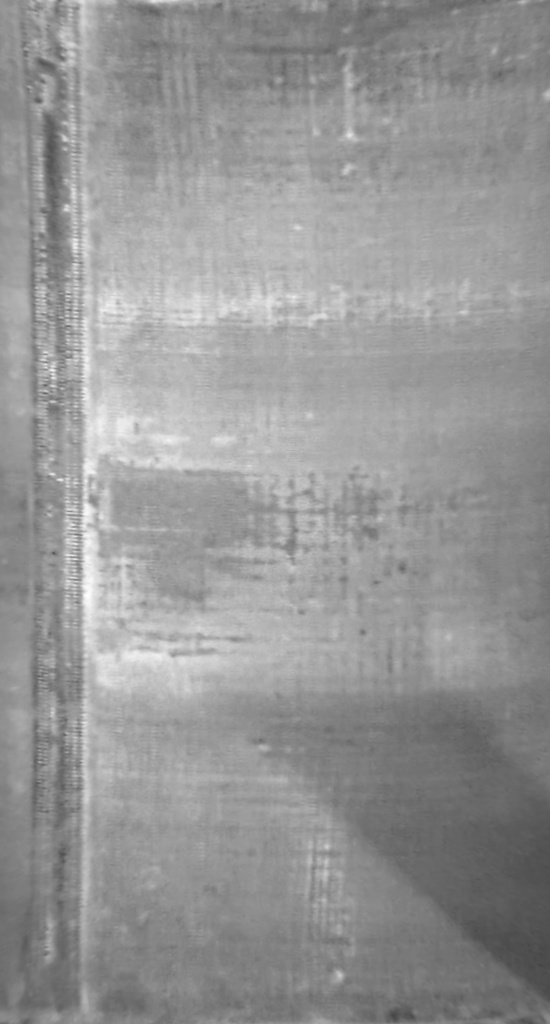splice: (12, 1, 109, 1021)
